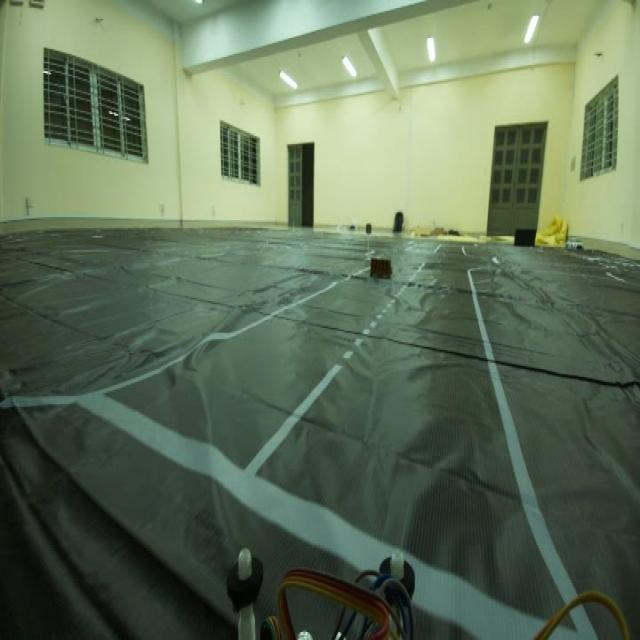roadblock: (366, 255, 394, 282)
